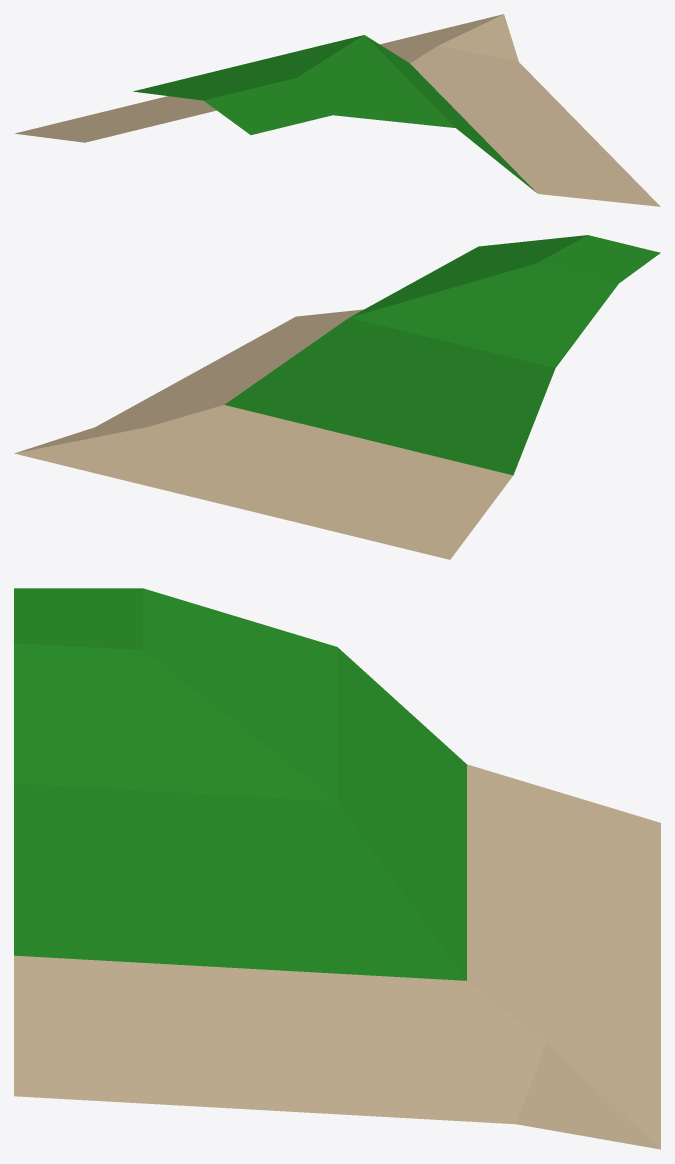
File: Hilly_Terrain_Path_Corner_Y_2x2.glb
The picture shows the model from 3 angles, top to bottom: view 1: azimuth 30°, elevation 25°; view 2: azimuth 150°, elevation 25°; view 3: azimuth 270°, elevation 25°; orthographic projection. The views are drawn at different scales.
Parts seen in each view (by area): view 1: Hilly_Terrain_Path_Corner_Y_2x2; view 2: Hilly_Terrain_Path_Corner_Y_2x2; view 3: Hilly_Terrain_Path_Corner_Y_2x2.
Part boxes in pixels (left/top/right/bottom): Hilly_Terrain_Path_Corner_Y_2x2: left=15, top=14, right=660, bottom=206; Hilly_Terrain_Path_Corner_Y_2x2: left=14, top=235, right=660, bottom=559; Hilly_Terrain_Path_Corner_Y_2x2: left=14, top=588, right=660, bottom=1149.
Bounding box in the file's own units: 0.5974 × 0.2 × 0.5.
